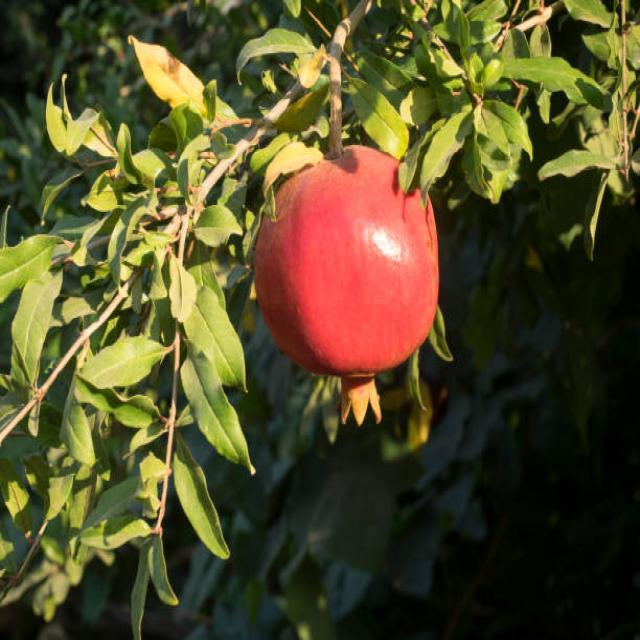Ripe: (251, 131, 447, 422)
